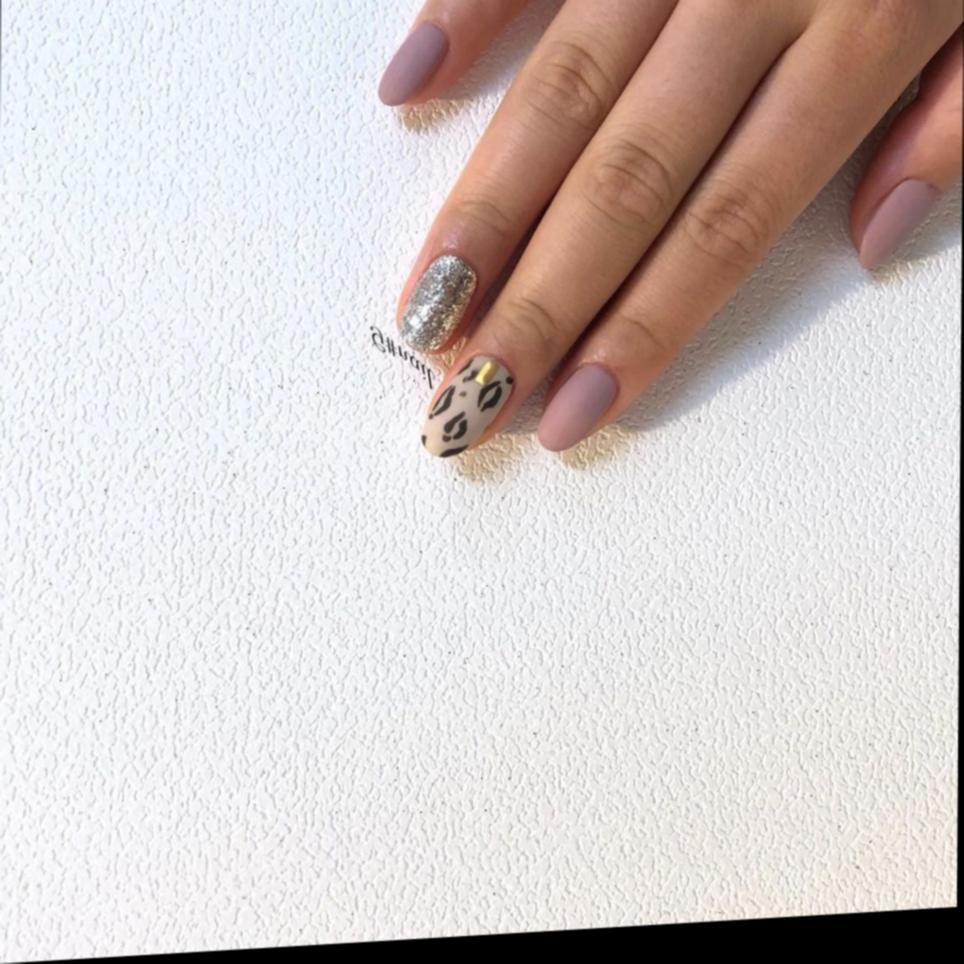nail: (418, 350, 515, 459), (396, 252, 478, 355), (533, 358, 618, 453), (856, 174, 939, 271), (374, 18, 449, 107)
